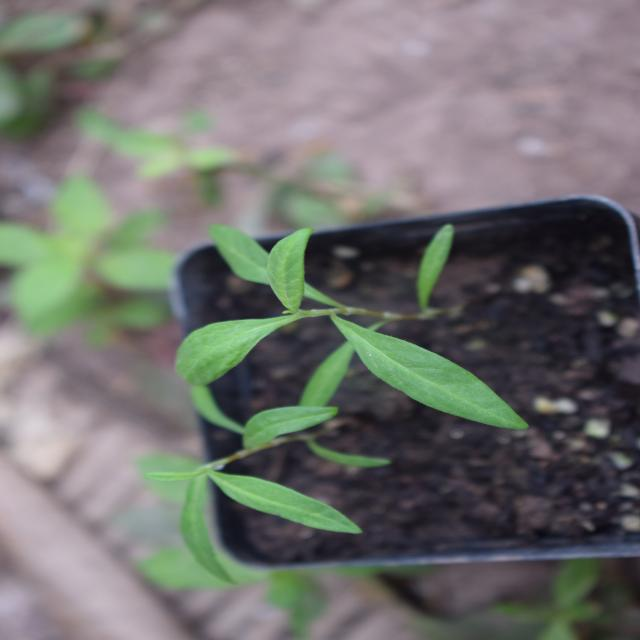white_smart_weed: (234, 164, 440, 511), (41, 115, 263, 364)
